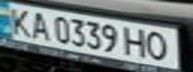0: (48, 14, 72, 45)
3: (81, 19, 103, 51), (66, 16, 87, 48)
9: (100, 21, 121, 54)
A: (24, 9, 54, 40)
H: (121, 25, 151, 58)
K: (3, 4, 36, 37)
O: (142, 29, 175, 62)
